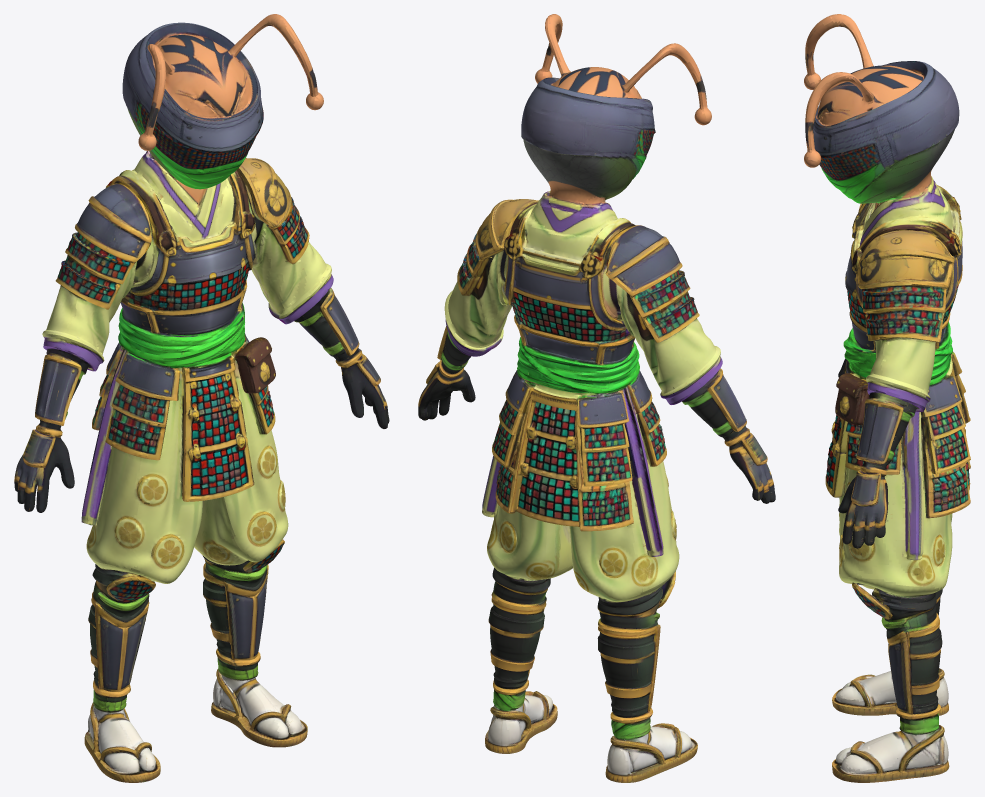
The model's file is rebel_893_static_source_fv2_apose.glb.
The picture shows the model from 3 angles, left to right: view 1: azimuth 30°, elevation 25°; view 2: azimuth 150°, elevation 25°; view 3: azimuth 270°, elevation 25°; orthographic projection. The views are drawn at different scales.
Parts seen in each view (by area): view 1: Mesh_0; view 2: Mesh_0; view 3: Mesh_0.
Boxes of the visible parts, x1=… form: Mesh_0: x1=14, y1=14, x2=389, y2=782; Mesh_0: x1=418, y1=14, x2=775, y2=782; Mesh_0: x1=804, y1=14, x2=970, y2=782.
Size of the model in its own units: 0.9931 by 1.9 by 0.4137.
1 material, 1 textured.
